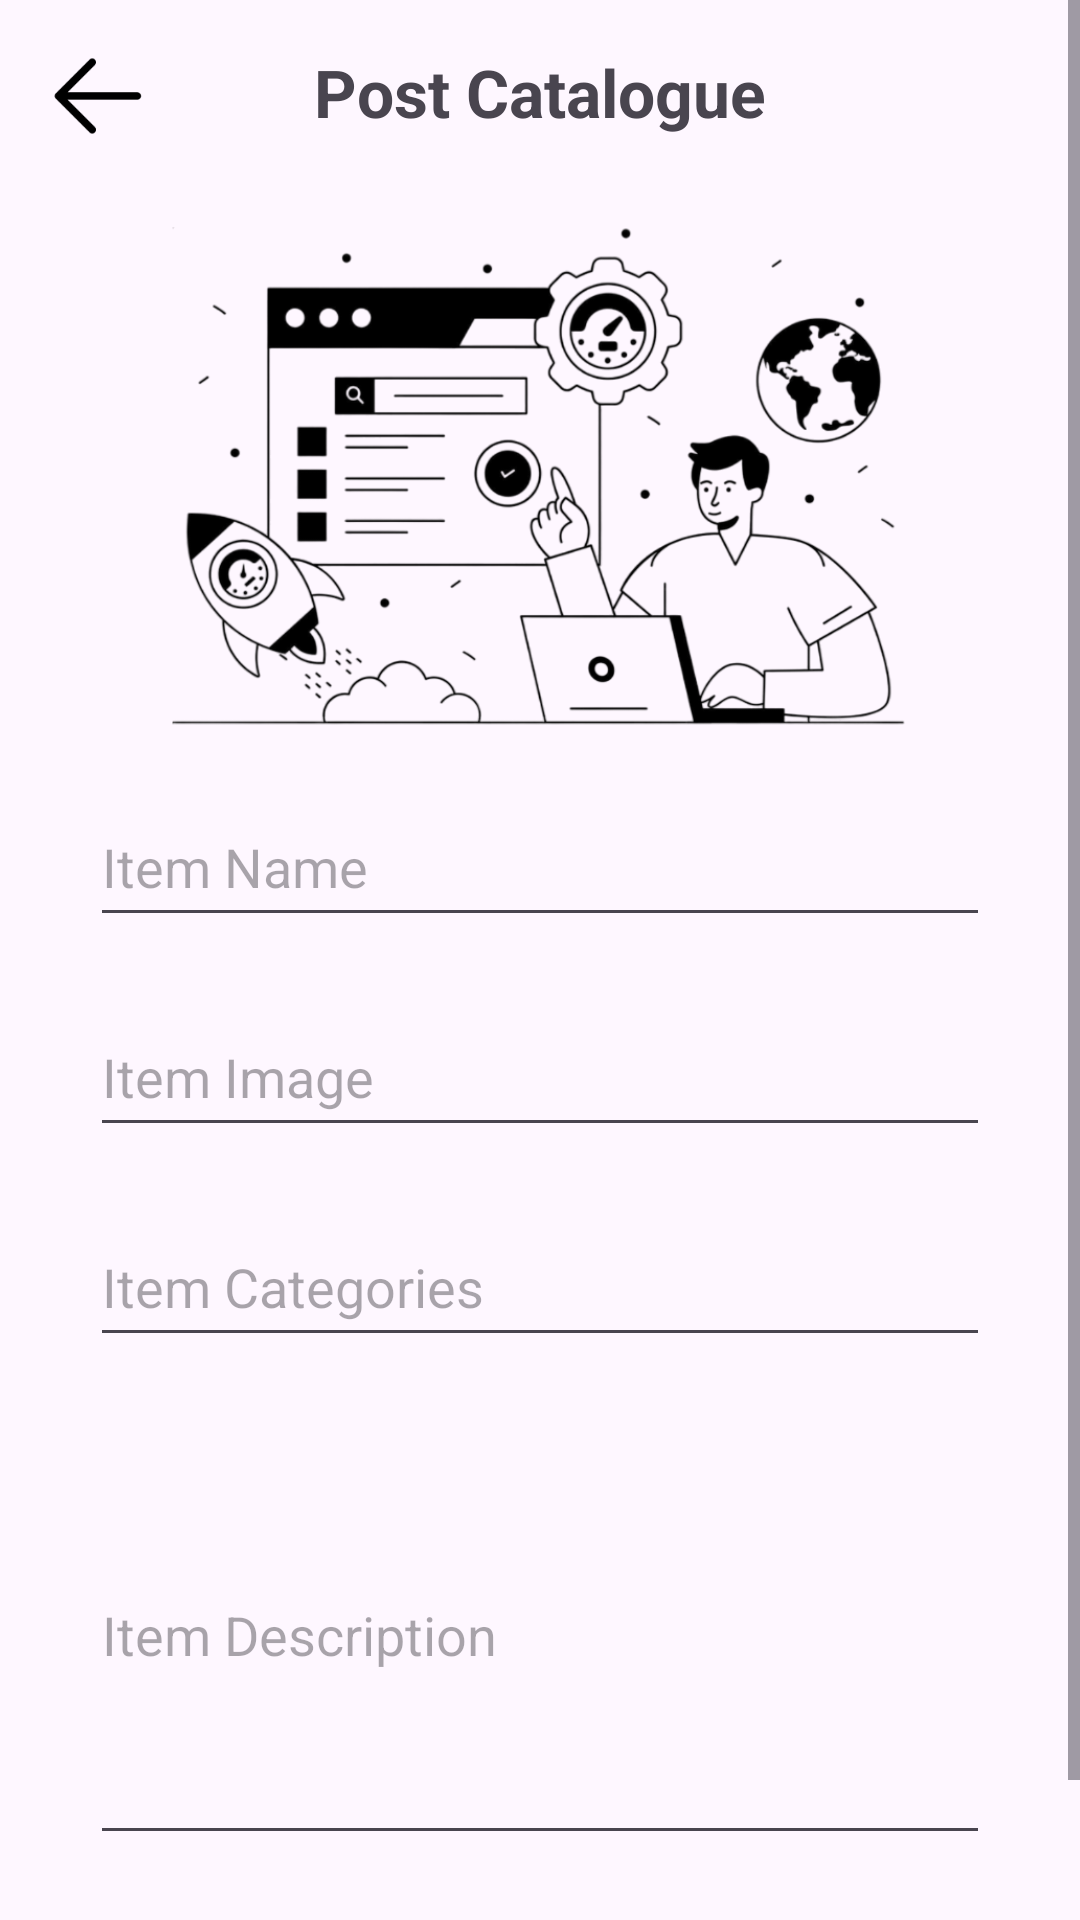

Icon click points for this 1080 x 1920 phone screenshot, format point (x, y):
back: point (98, 96)
